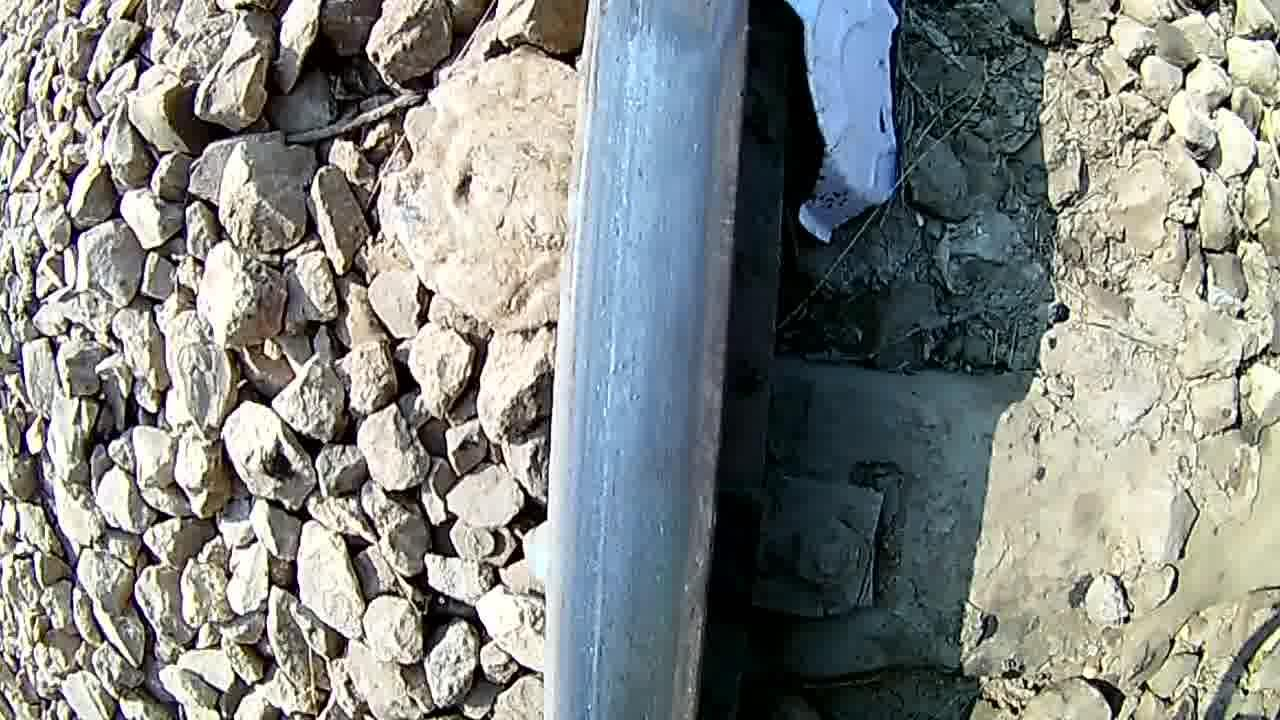bolt_missing: (564, 0, 753, 283)
